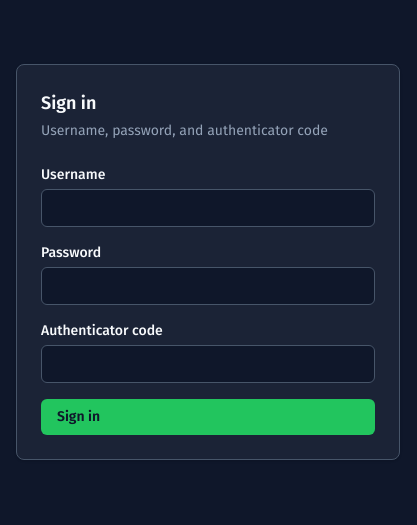
Test case: LoginPage › shows a session error when sign-in succeeds but the session check fails
In the field labelled "Username": (208, 208) [41, 189, 375, 227], type "admin"
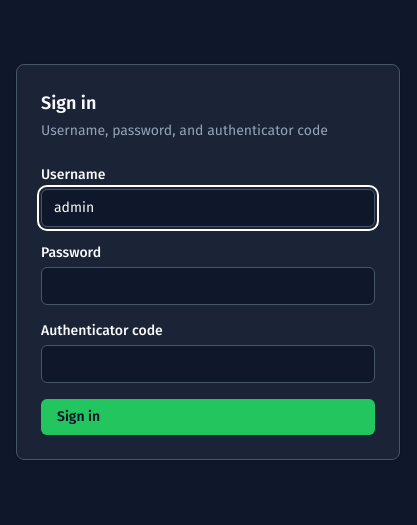
In the password field labelled "Password": (208, 286) [41, 267, 375, 305], type "correct-password"
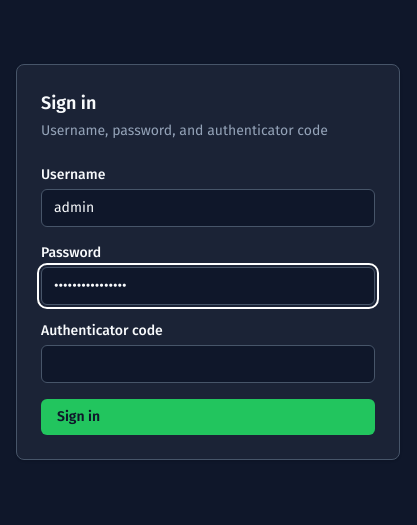
In the field labelled "Authenticator code": (208, 364) [41, 345, 375, 383], type "123456"
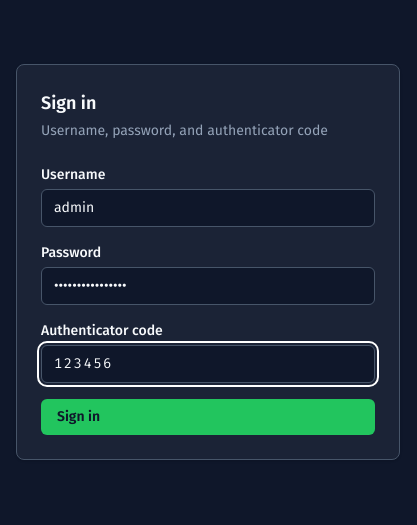
Click the button "Sign in": (79, 416) [41, 399, 375, 435]
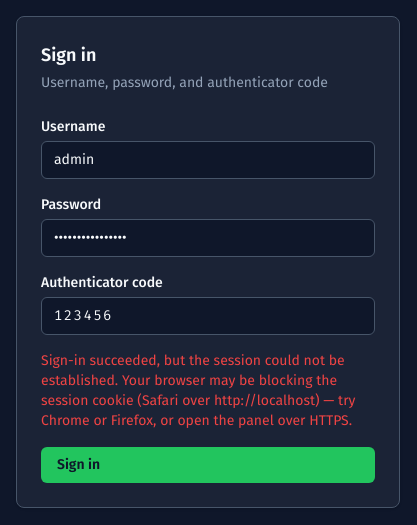
Result: the text "session could not be established" is shown at [41, 352, 356, 429]
